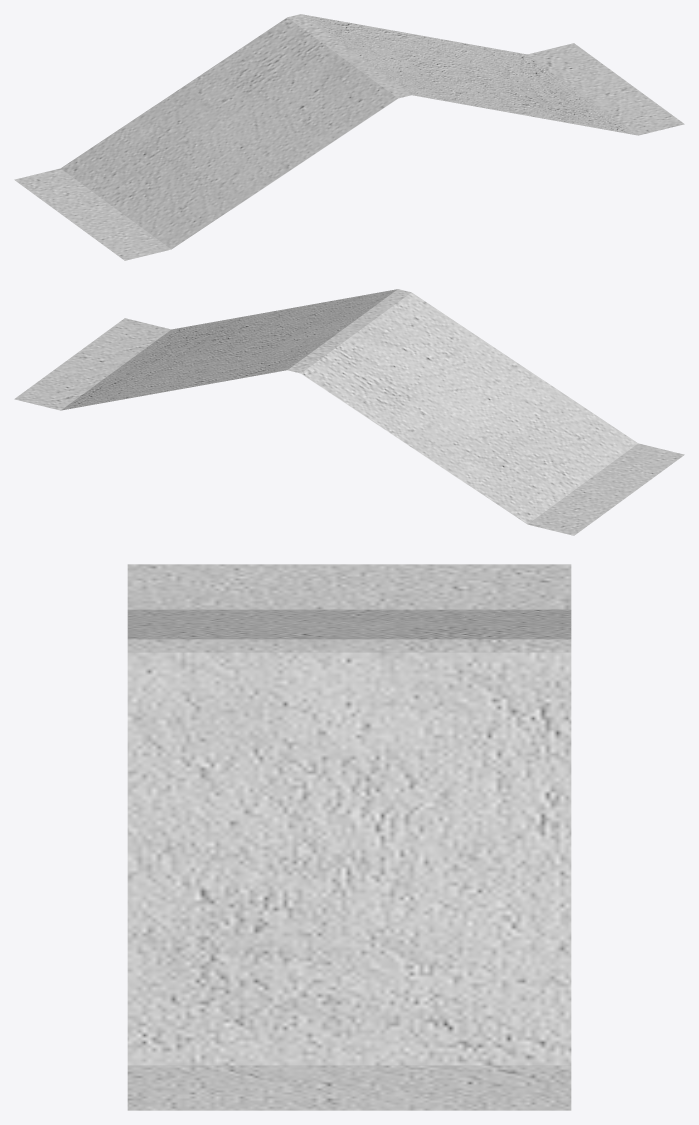
File: WC_RoofMiddle.fbx
The picture shows the model from 3 angles, top to bottom: view 1: azimuth 30°, elevation 25°; view 2: azimuth 150°, elevation 25°; view 3: azimuth 270°, elevation 25°; orthographic projection. The views are drawn at different scales.
Parts seen in each view (by area): view 1: WC_RoofMiddle; view 2: WC_RoofMiddle; view 3: WC_RoofMiddle.
Boxes of the visible parts, bbox=[...] form: WC_RoofMiddle: bbox=[14, 14, 684, 260]; WC_RoofMiddle: bbox=[14, 289, 684, 535]; WC_RoofMiddle: bbox=[127, 564, 571, 1110].
Size of the model in its own units: 1166 by 190 by 400.
